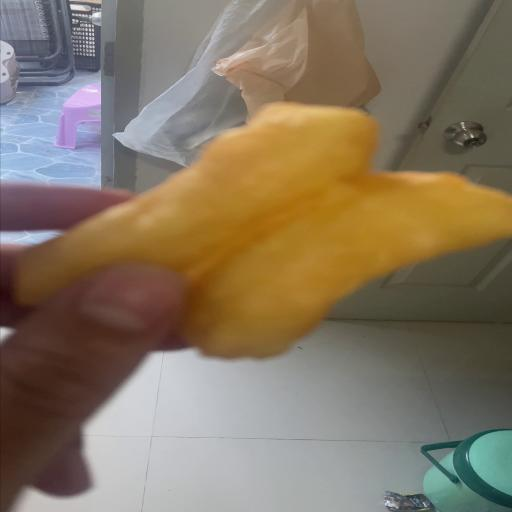street_golden_good: (14, 101, 511, 357)
